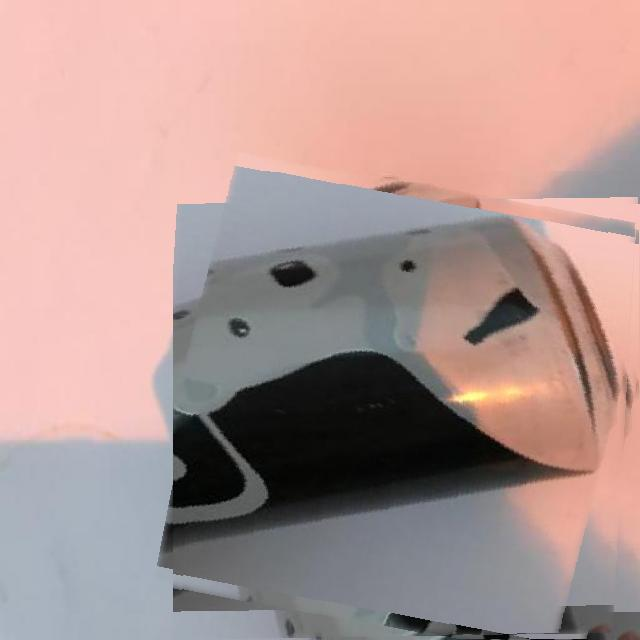recyclable: (173, 171, 640, 640)
